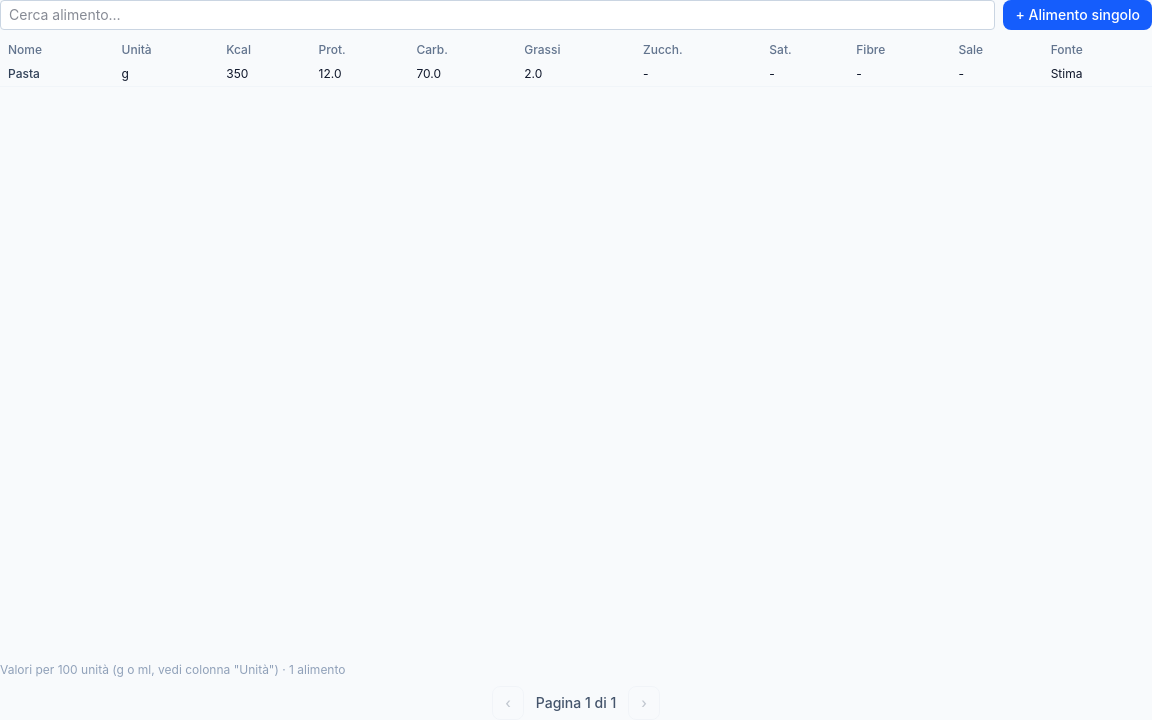
Test: LibroAlimentiPanel › LibroAlimentiPanel_eliminazioneFallita_mostraUnEsitoDiErrore
Click the text "Pasta". click: (24, 74)
box: [0,62,114,86]
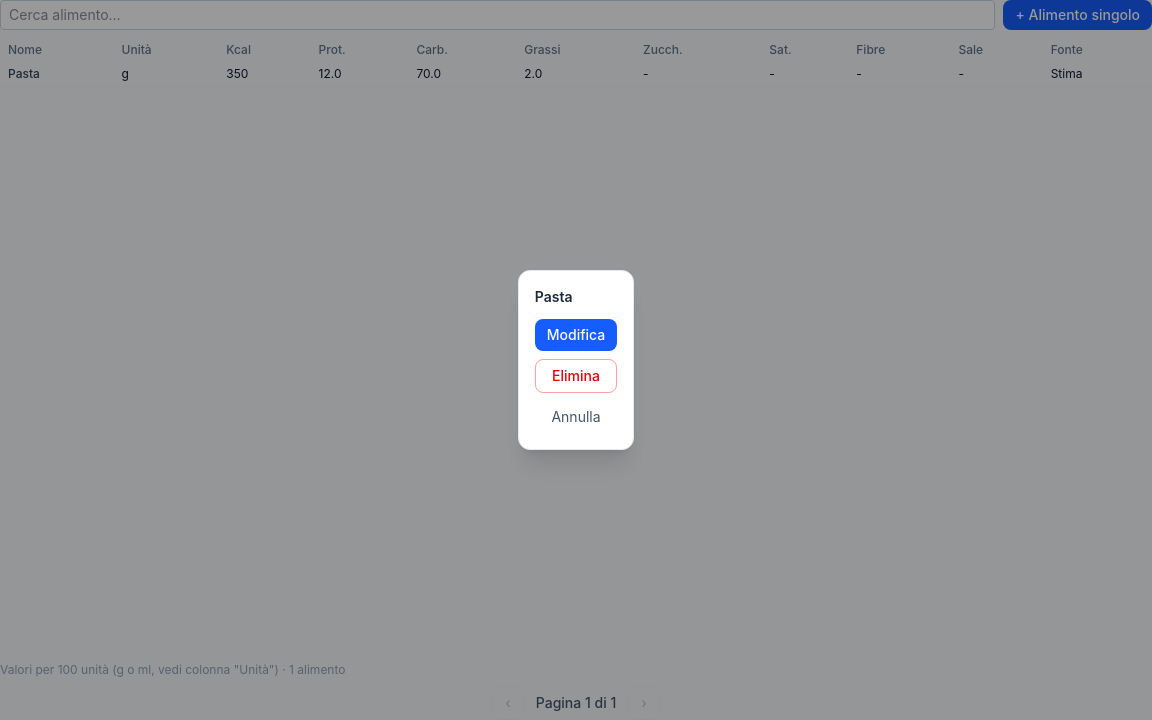
Click the button "Elimina". click: (576, 376)
box: [535,359,617,393]
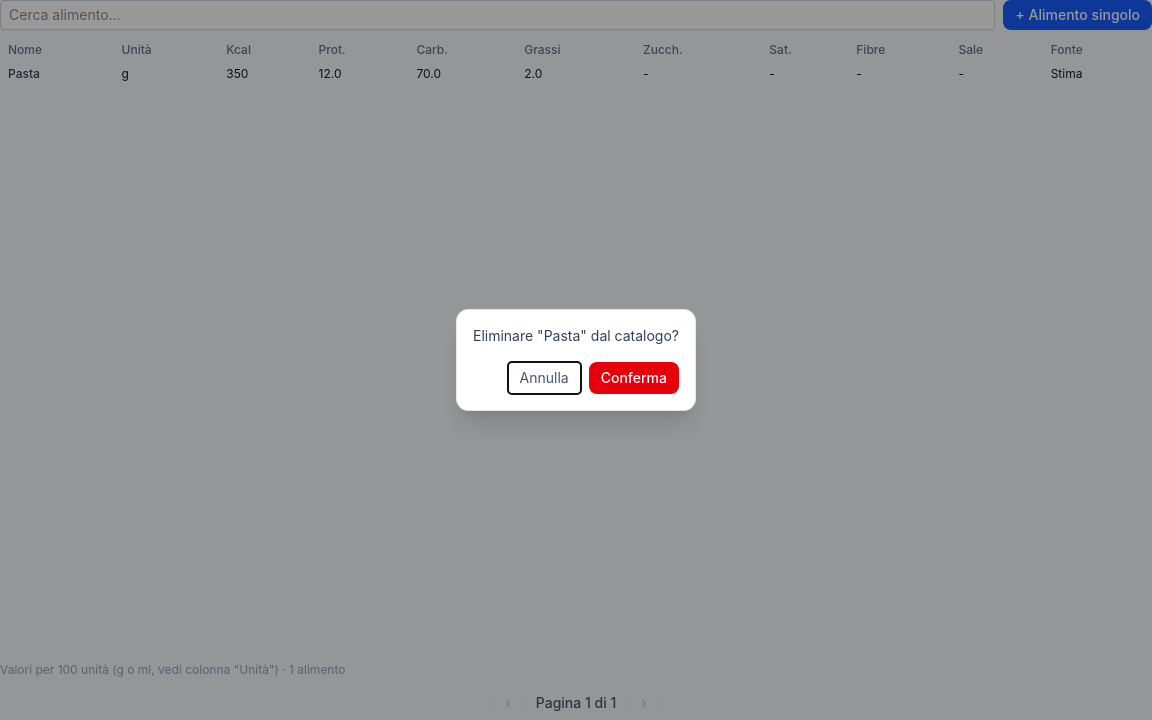
Click the button "Conferma". click: (634, 378)
box: [589,362,679,394]
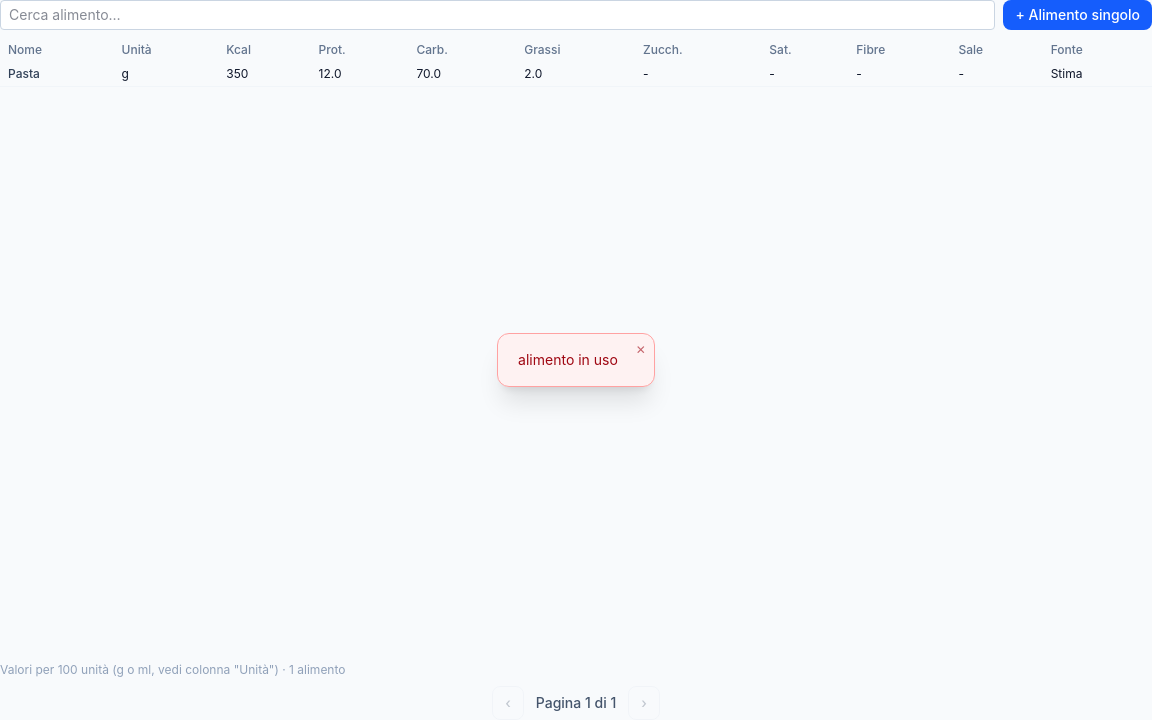
expect the button "alimento in uso ✕" is shown: met, box [497,333,655,387]
